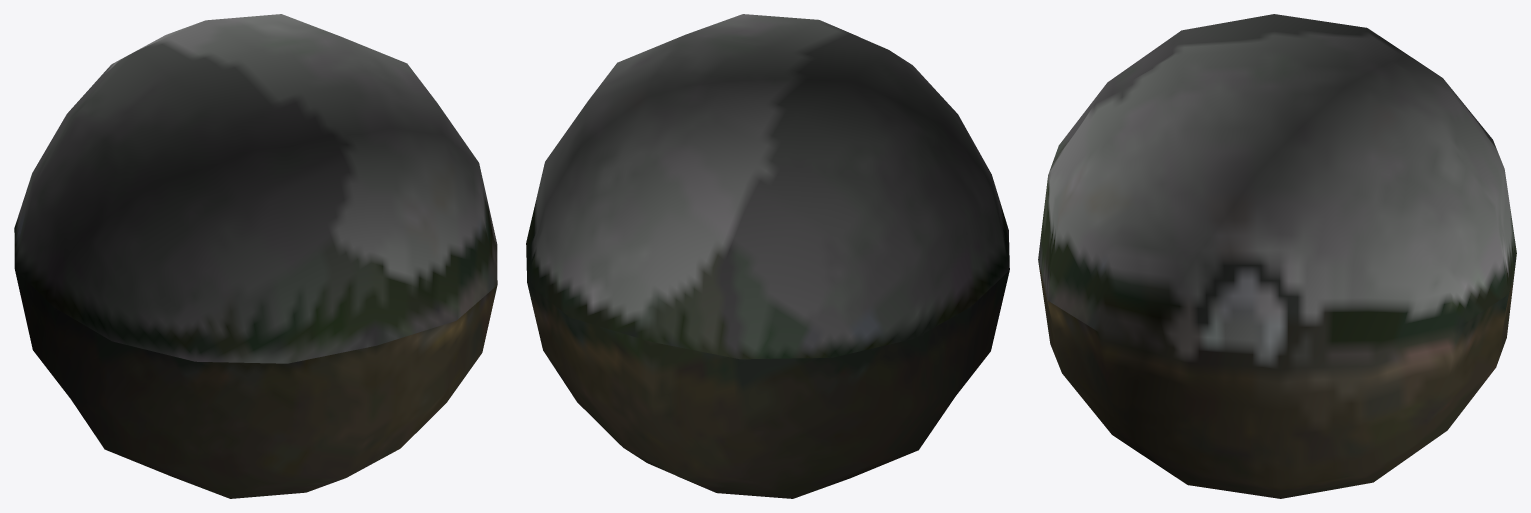
The model's file is lantern_bomb.glb.
3 renders of one model, left to right at view 1: azimuth 30°, elevation 25°; view 2: azimuth 150°, elevation 25°; view 3: azimuth 270°, elevation 25°, orthographic.
Parts seen in each view (by area): view 1: weapons/lantern_bomb_0; view 2: weapons/lantern_bomb_0; view 3: weapons/lantern_bomb_0.
Boxes of the visible parts, left/top/right/bottom form: weapons/lantern_bomb_0: left=14, top=14, right=497, bottom=498; weapons/lantern_bomb_0: left=526, top=14, right=1009, bottom=498; weapons/lantern_bomb_0: left=1038, top=14, right=1516, bottom=498.
Bounding box in the file's own units: 1.96 × 1.92 × 2.
Materials: 1 (1 with a texture image).
